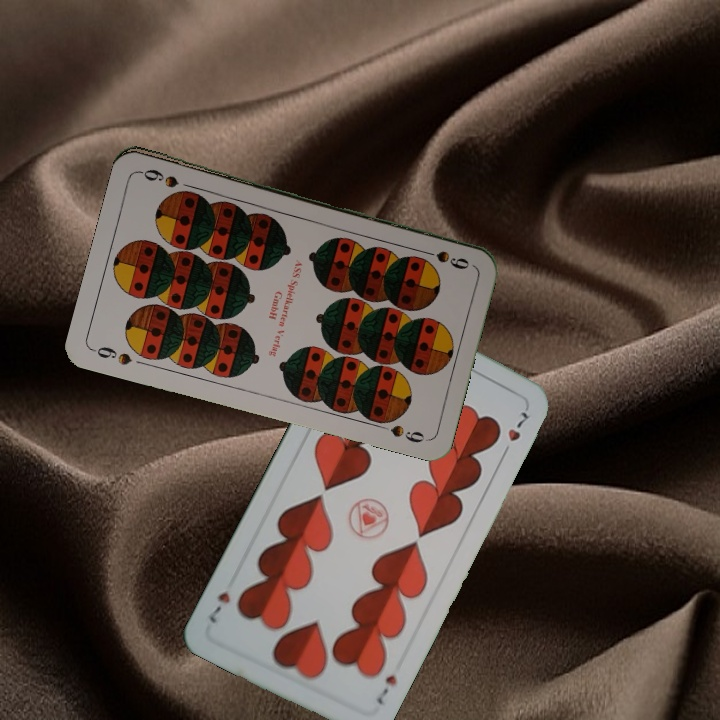H7: (371, 670, 400, 709)
S9: (415, 245, 472, 270), (89, 342, 134, 368)
